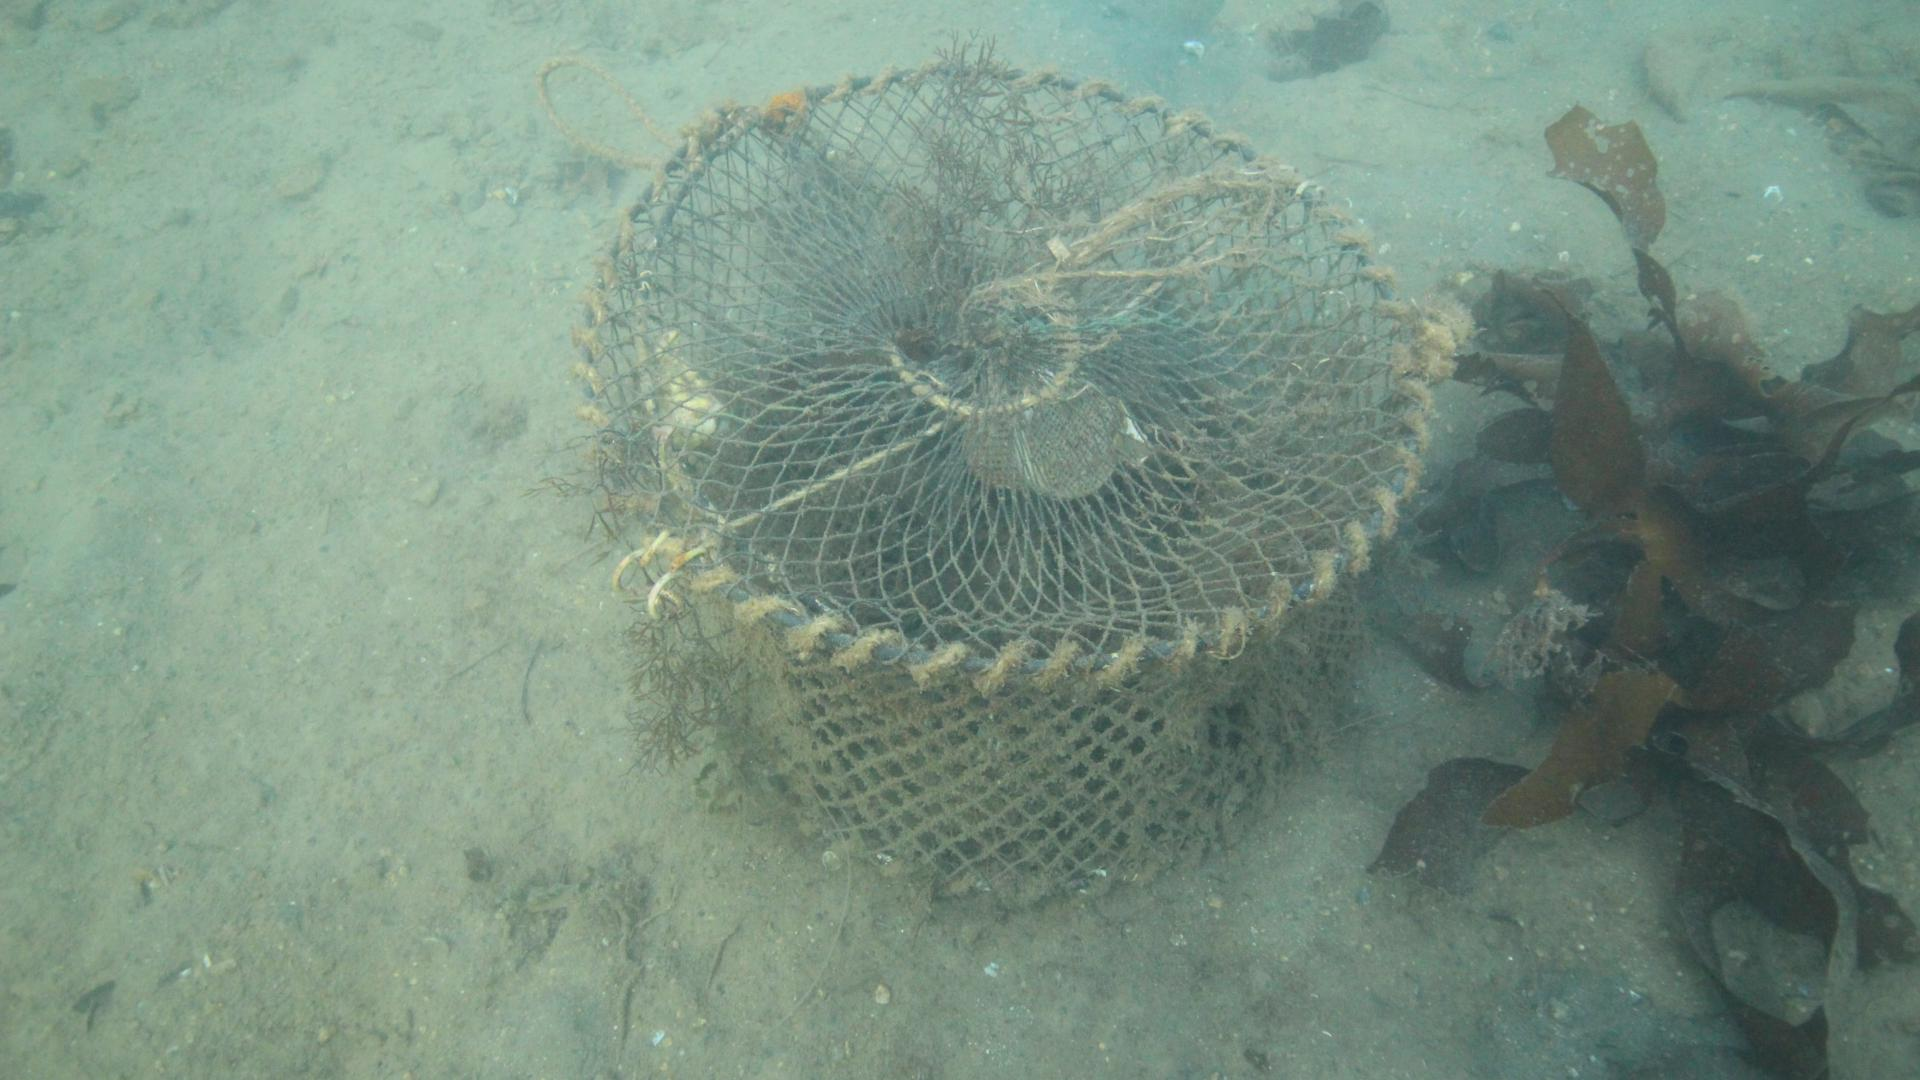circular fish trap: (574, 59, 1439, 905)
rope: (530, 51, 680, 170)
